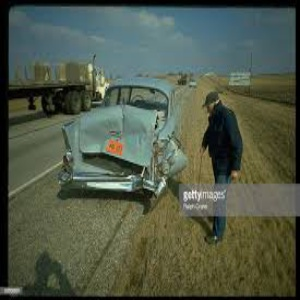bonnet: (83, 102, 153, 166)
